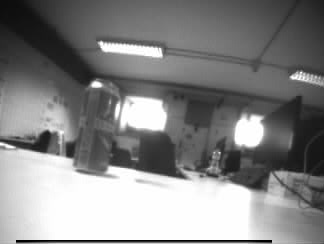Bottle: (211, 149, 221, 170)
Tin can: (73, 81, 119, 170)
